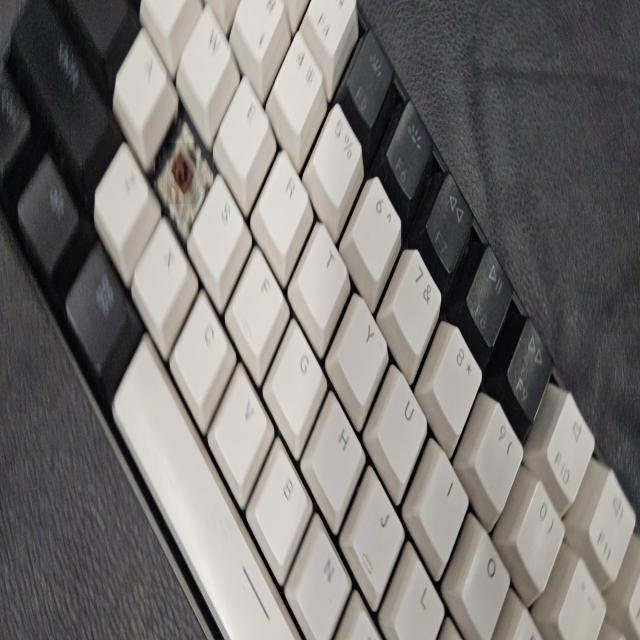C: (167, 143, 196, 204)
